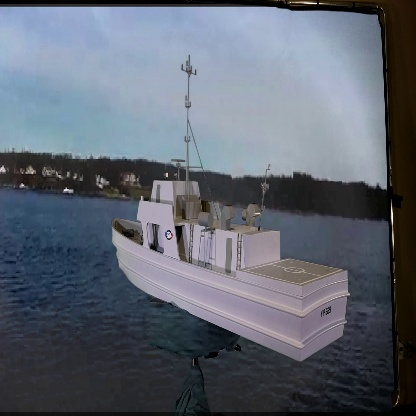YP689: (110, 55, 350, 362)
